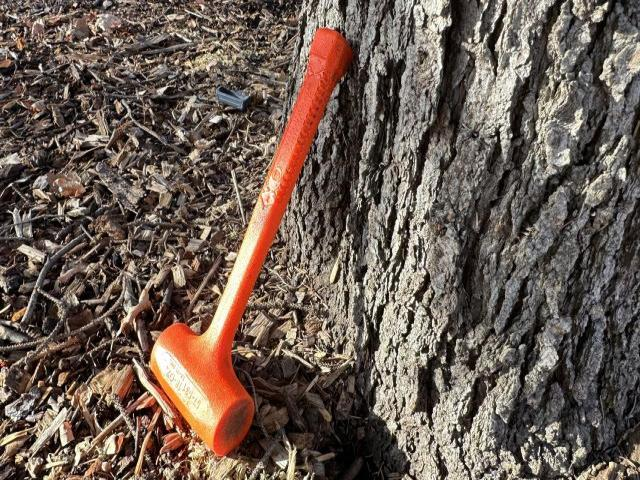hammer: (147, 29, 356, 454)
